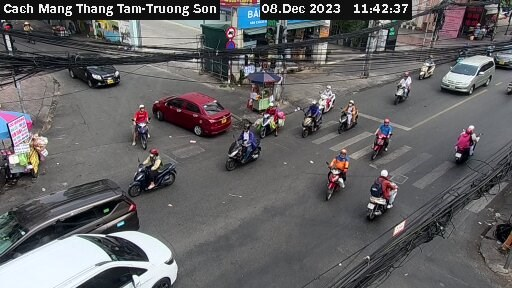car: (1, 179, 140, 255), (1, 234, 181, 288), (152, 88, 229, 137), (69, 49, 123, 90), (440, 54, 495, 94), (494, 44, 512, 65)
motorbike: (115, 150, 186, 194), (359, 173, 409, 220), (225, 124, 265, 171), (121, 109, 164, 148), (315, 152, 351, 196), (367, 118, 405, 158), (385, 68, 422, 104), (256, 104, 296, 135), (333, 101, 371, 133), (447, 128, 483, 160), (302, 101, 330, 139), (311, 84, 343, 112), (417, 54, 440, 79)
